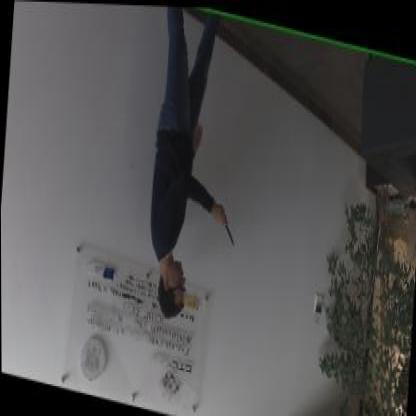knife: (216, 204, 236, 244)
